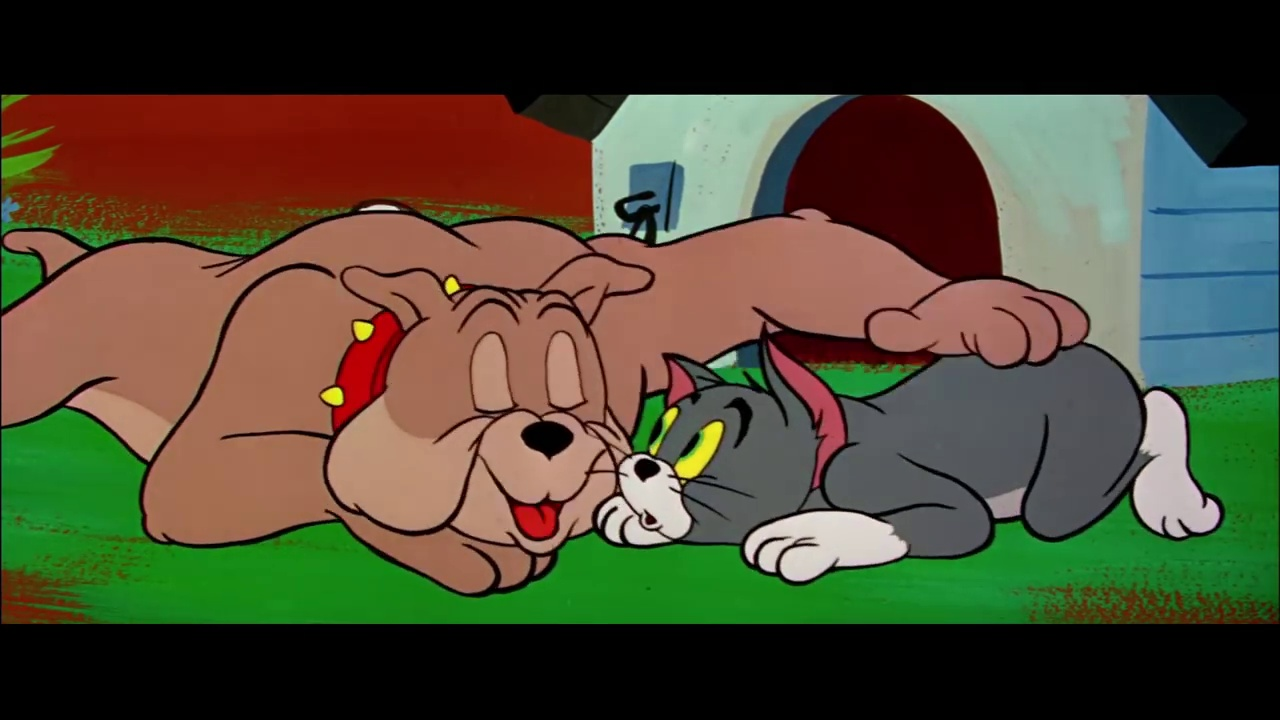spike: (317, 248, 658, 547)
tom: (621, 323, 848, 545)
